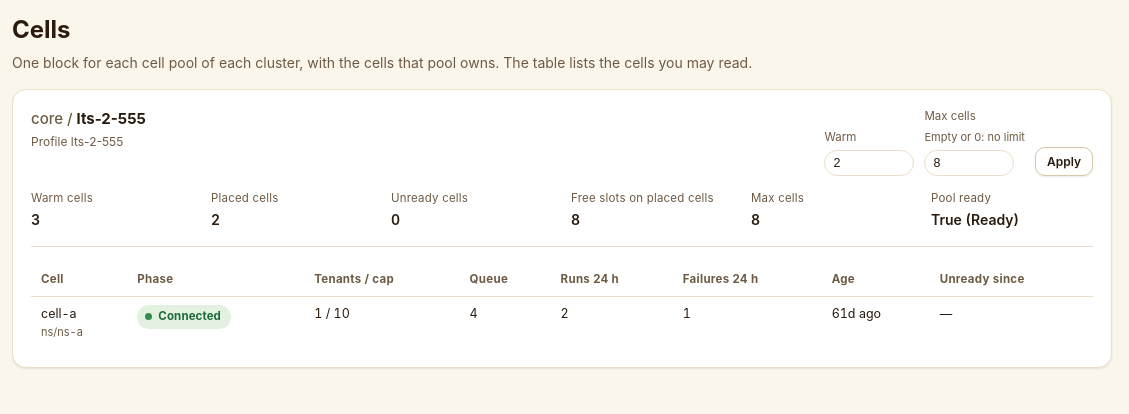
Test: The scale control reports every refusal › clears a refusal on the next apply
This screenshot has width=1129, height=414.
Replace the text in the number field named "Warm cells of lts-2-555 on core" with "6": (870, 163) x1=824 y1=150 x2=914 y2=176
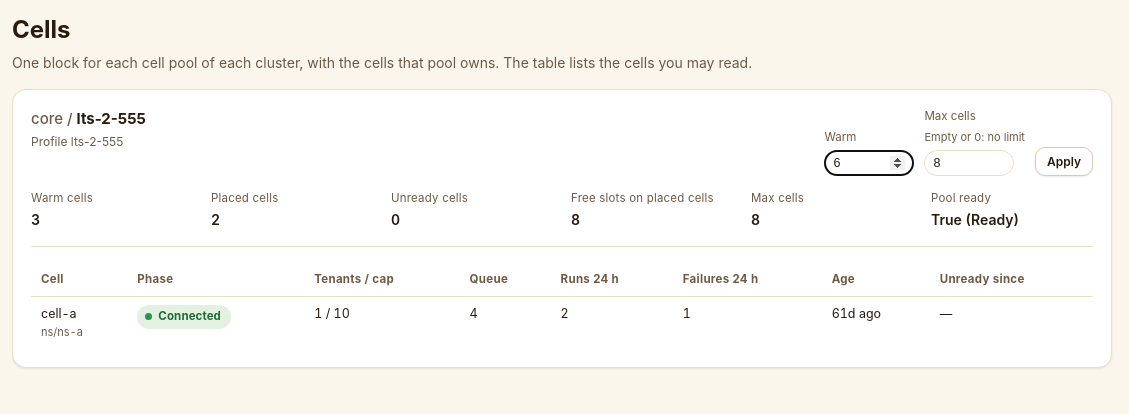
Click the button "Apply": (1064, 161) x1=1035 y1=147 x2=1093 y2=176
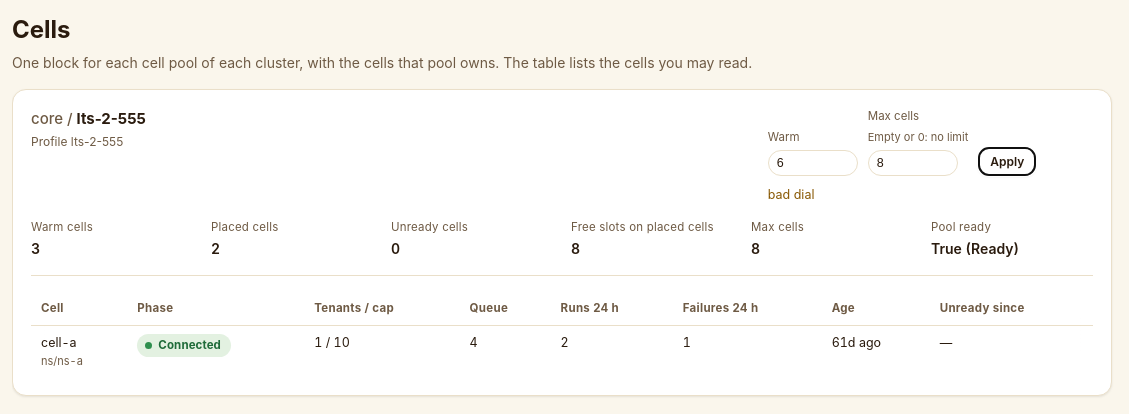
Result: the message reads "bad dial" at x1=768 y1=187 x2=814 y2=202
Click the button "Apply": (1007, 161) x1=978 y1=147 x2=1036 y2=176
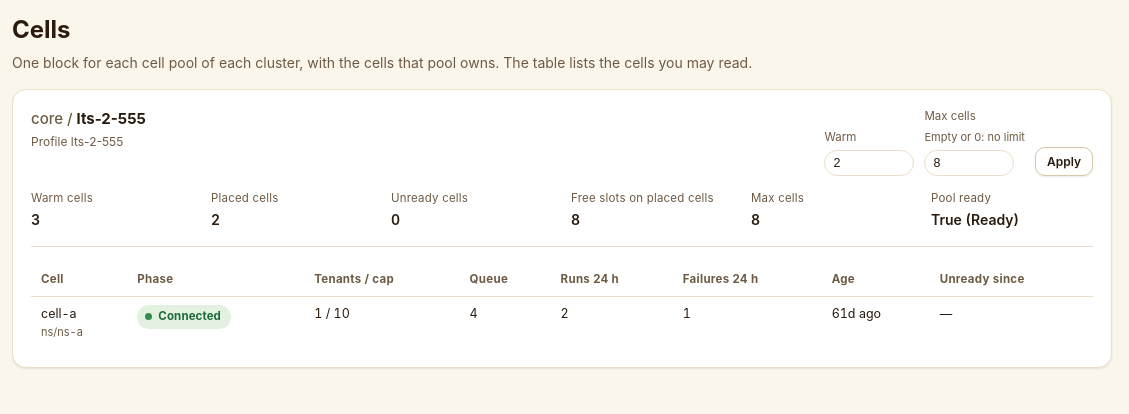
Result: the text "bad dial" is gone
